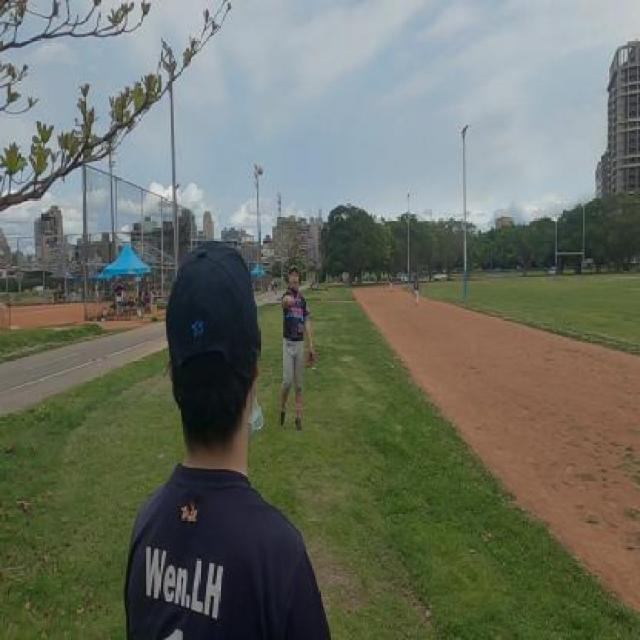baseball: (259, 163, 263, 180)
